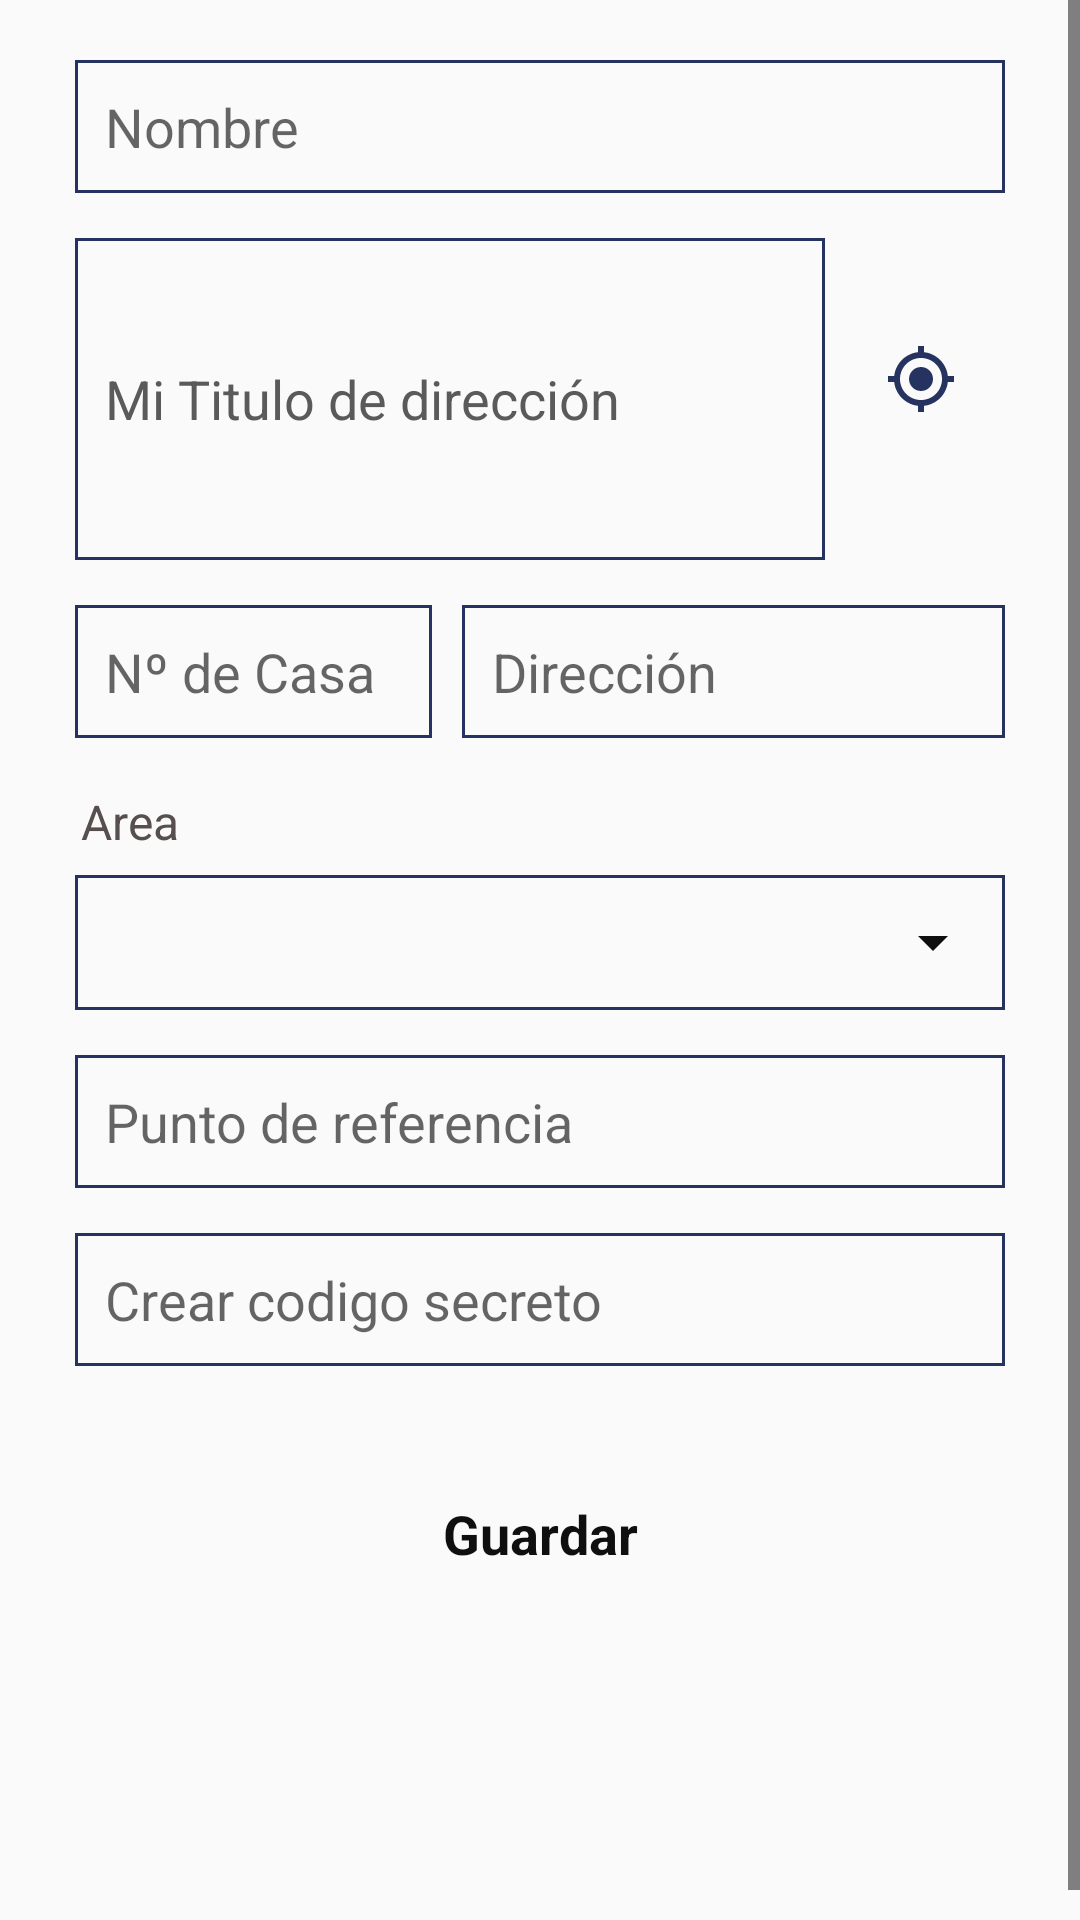

Locate icon controls on the screen. Image size 1080w x 1920h, boxes as detection(x1, y1, x2, y2).
location: detection(888, 346, 954, 412)
